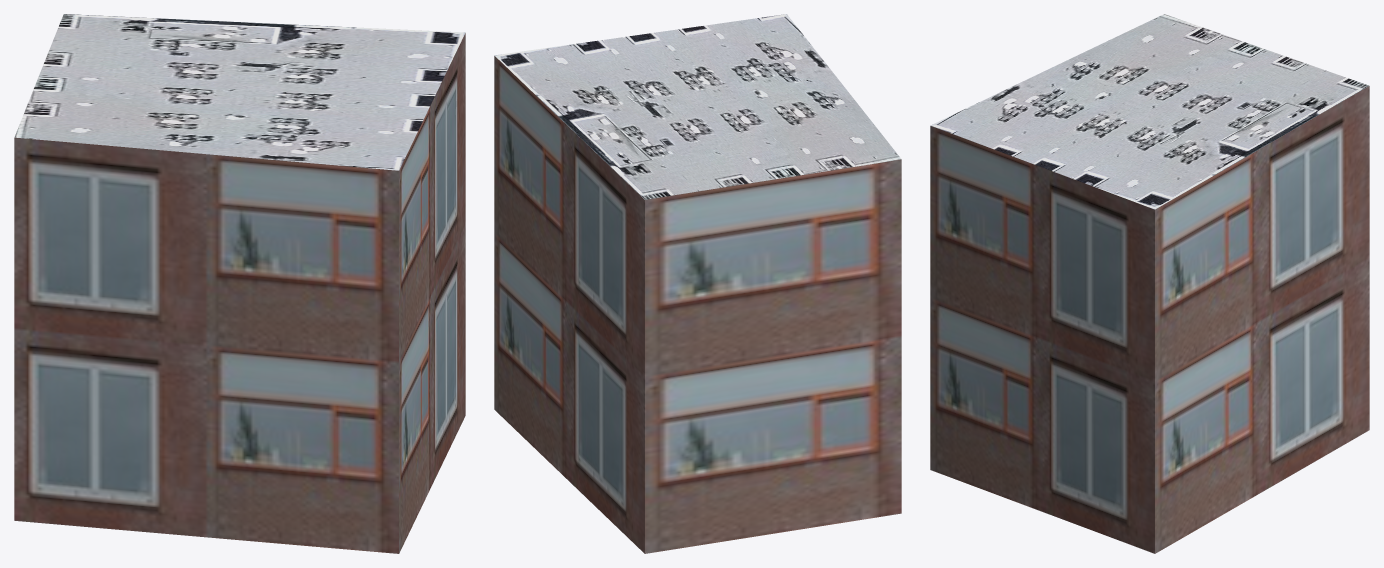
Rendered from ResTex__4310.fbx.
3 renders of one model, left to right at view 1: azimuth 30°, elevation 25°; view 2: azimuth 150°, elevation 25°; view 3: azimuth 270°, elevation 25°, orthographic. The views are drawn at different scales.
Visible parts, largest first — view 1: CityEngineMaterial_19_m, CityEngineMaterial_15_m; view 2: CityEngineMaterial_19_m, CityEngineMaterial_15_m; view 3: CityEngineMaterial_19_m, CityEngineMaterial_15_m.
Part boxes in pixels (box(x1,y1,x2,y2)): CityEngineMaterial_19_m: box(14, 33, 465, 553); CityEngineMaterial_15_m: box(14, 14, 465, 170); CityEngineMaterial_19_m: box(494, 56, 901, 553); CityEngineMaterial_15_m: box(494, 14, 901, 199); CityEngineMaterial_19_m: box(930, 86, 1369, 553); CityEngineMaterial_15_m: box(930, 14, 1369, 209).
Bounding box in the file's own units: 7.31 × 6 × 6.94.
2 materials, 2 textured.
